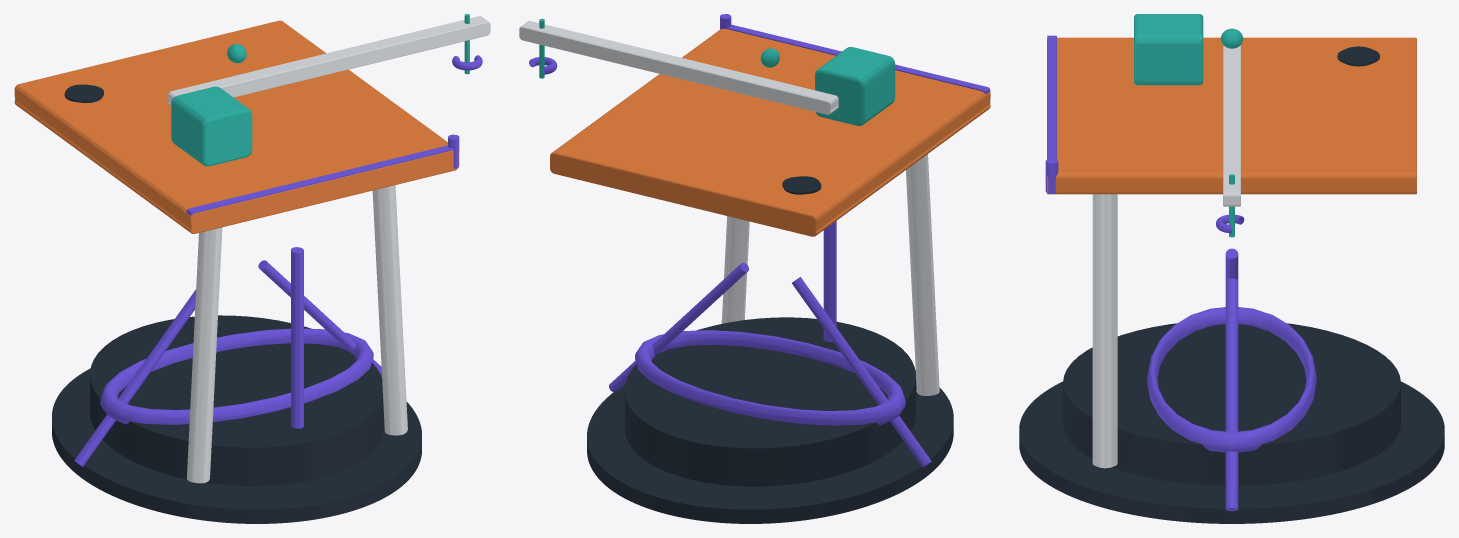
File: 0468_机械图鉴_曲臂升降机.glb
3 views of the same model, side by side, from view 1: azimuth 30°, elevation 25°; view 2: azimuth 150°, elevation 25°; view 3: azimuth 270°, elevation 25° (orthographic). The views are drawn at different scales.
Visible parts, largest first — view 1: card_0468; view 2: card_0468; view 3: card_0468.
Boxes of the visible parts, x1=… form: card_0468: x1=14, y1=14, x2=490, y2=523; card_0468: x1=519, y1=14, x2=990, y2=523; card_0468: x1=1019, y1=14, x2=1444, y2=523.
Bounding box in the file's own units: 1.06 × 1 × 0.9037.
